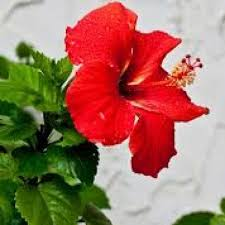hybiscus: (65, 1, 217, 178)
